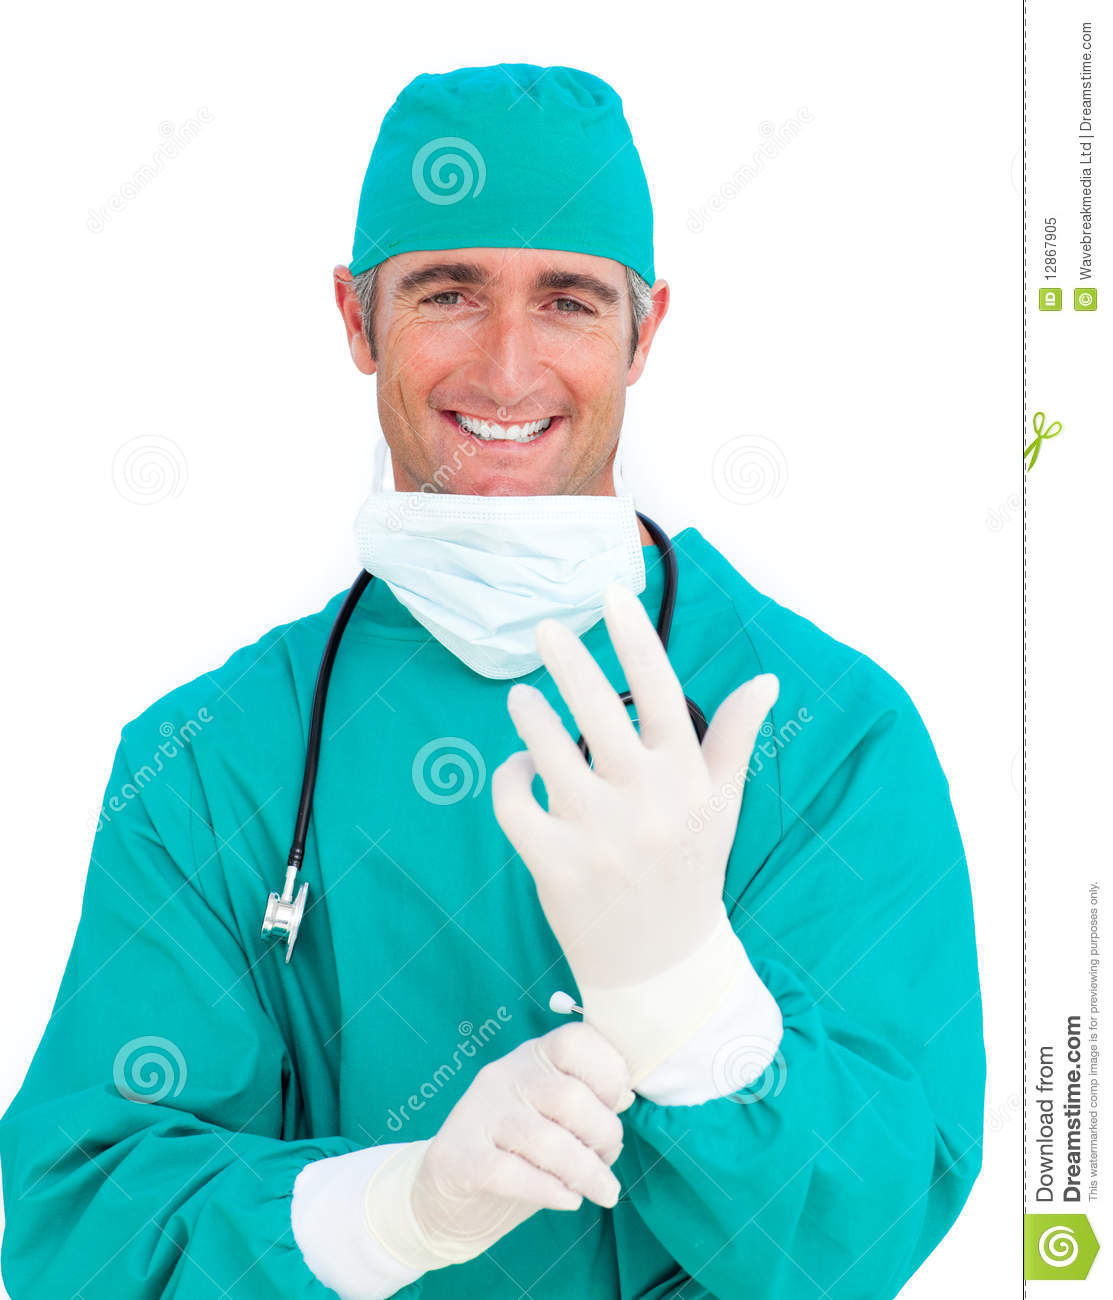mask: (340, 493, 654, 673)
